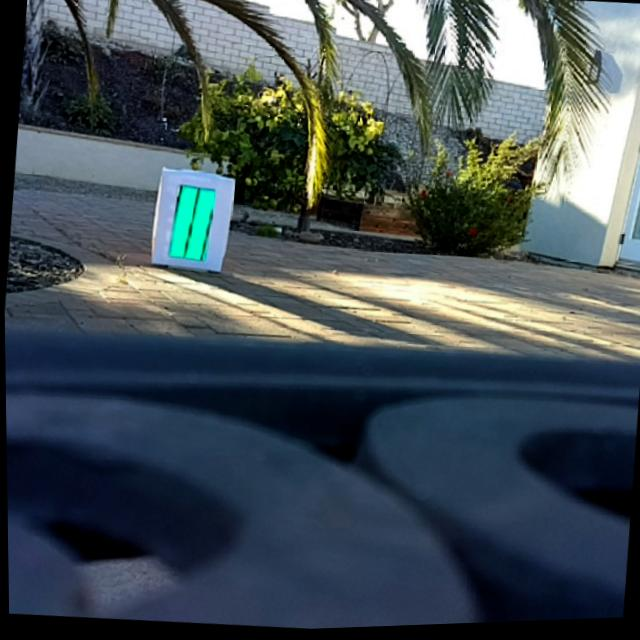led: (170, 185, 217, 263)
